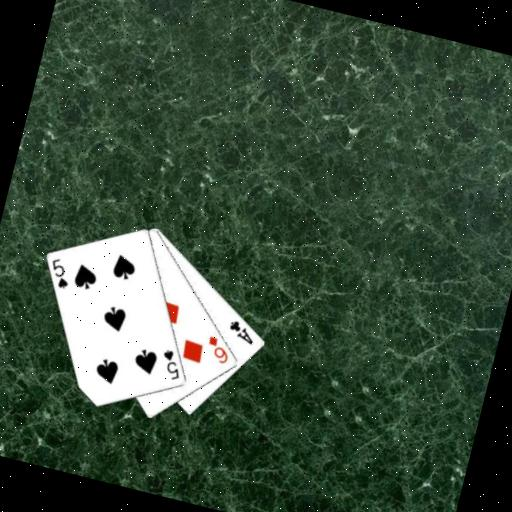5S: (155, 345, 188, 383), (44, 254, 76, 292)
6D: (201, 332, 235, 366)
AC: (224, 317, 260, 348)
